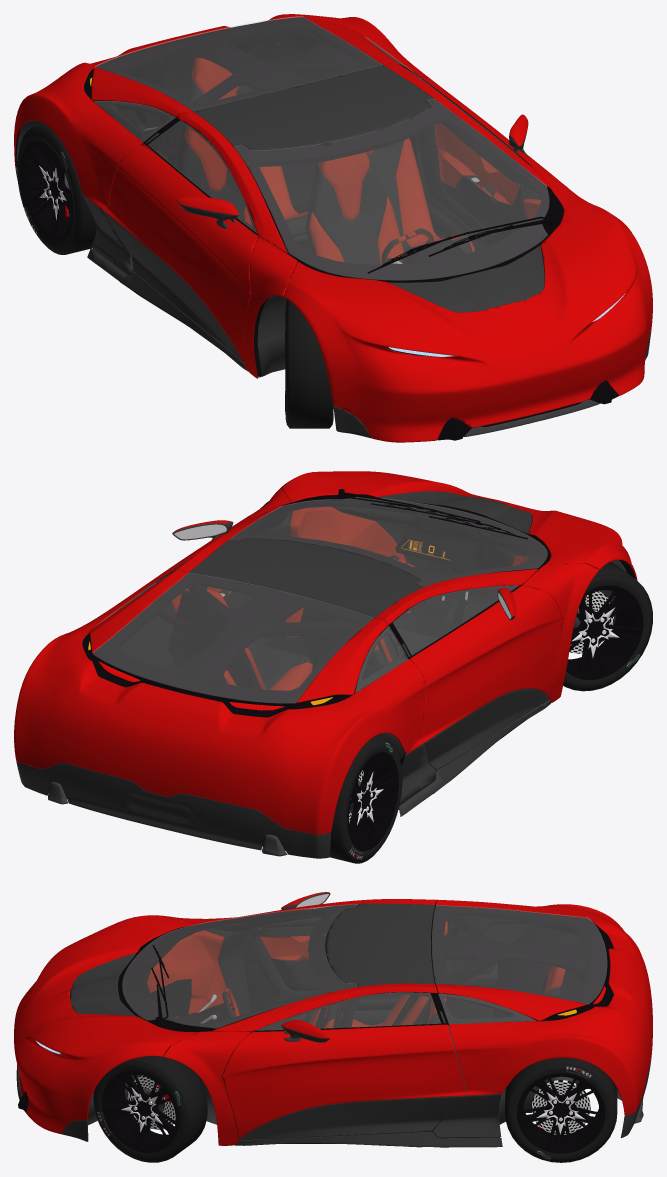
The model's file is car-high.glb.
The picture shows the model from 3 angles, top to bottom: view 1: azimuth 30°, elevation 25°; view 2: azimuth 150°, elevation 25°; view 3: azimuth 270°, elevation 25°; orthographic projection. The views are drawn at different scales.
Parts seen in each view (by area): view 1: BodyHood, BodyWindshield, BodyRearwindow, BodyDoorRColor1, BodyRearPanelsColor1, BodyRoofPanel, BodyWindshieldGasket, InteriorSeatsColor1, InteriorSeatsColor2, BodyPillars, InteriorPillar, InteriorRearHatch (+21 smaller); view 2: BodyRearPanelsColor1, BodyRearwindow, BodyWindshield, BodyPanelsColor2, BodyDoorRColor1, BodyRoofPanel, BodyHood, InteriorRearHatch, BodyPillars, InteriorPillar, BodyWindshieldGasket, InteriorDashMid (+21 smaller); view 3: BodyRearPanelsColor1, BodyWindshield, BodyDoorLColor1, BodyHood, BodyRearwindow, BodyRoofPanel, BodyPillars, BodyWindshieldGasket, BodyDoorLColor2, BodyPanelsColor2, WheelFrontL, InteriorRearHatch (+25 smaller).
Boxes of the visible parts, <box> form: BodyHood: <box>283,198,652,442</box>; BodyWindshield: <box>234,98,549,280</box>; BodyRearwindow: <box>95,16,382,110</box>; BodyDoorRColor1: <box>104,143,257,362</box>; BodyRearPanelsColor1: <box>14,14,428,210</box>; BodyRoofPanel: <box>193,65,432,150</box>; BodyWindshieldGasket: <box>234,99,563,282</box>; InteriorSeatsColor1: <box>185,57,475,264</box>; InteriorSeatsColor2: <box>180,78,472,264</box>; BodyPillars: <box>176,61,598,378</box>; InteriorPillar: <box>158,37,434,168</box>; InteriorRearHatch: <box>93,17,383,117</box>; BodyRearPanelsColor1: <box>14,569,425,834</box>; BodyRearwindow: <box>92,573,373,703</box>; BodyWindshield: <box>229,497,547,587</box>; BodyPanelsColor2: <box>16,700,550,858</box>; BodyDoorRColor1: <box>409,585,562,742</box>; BodyRoofPanel: <box>189,537,422,617</box>; BodyHood: <box>279,471,637,580</box>; InteriorRearHatch: <box>93,573,386,707</box>; BodyPillars: <box>175,489,599,702</box>; InteriorPillar: <box>174,574,417,682</box>; BodyWindshieldGasket: <box>230,497,550,587</box>; InteriorDashMid: <box>331,503,528,622</box>; BodyRearPanelsColor1: <box>436,899,652,1115</box>; BodyWindshield: <box>122,904,357,1028</box>; BodyDoorLColor1: <box>222,1024,467,1139</box>; BodyHood: <box>14,915,196,1133</box>; BodyRearwindow: <box>432,905,606,1003</box>; BodyRoofPanel: <box>326,903,434,986</box>; BodyPillars: <box>163,899,437,1145</box>; BodyWindshieldGasket: <box>118,905,357,1032</box>; BodyDoorLColor2: <box>240,1096,467,1140</box>; BodyPanelsColor2: <box>16,1050,652,1147</box>; WheelFrontL: <box>93,1054,207,1162</box>; InteriorRearHatch: <box>431,905,606,1020</box>.
Size of the model in its own units: 2.54 by 1.15 by 4.36.
Materials: 22 (5 with a texture image).
